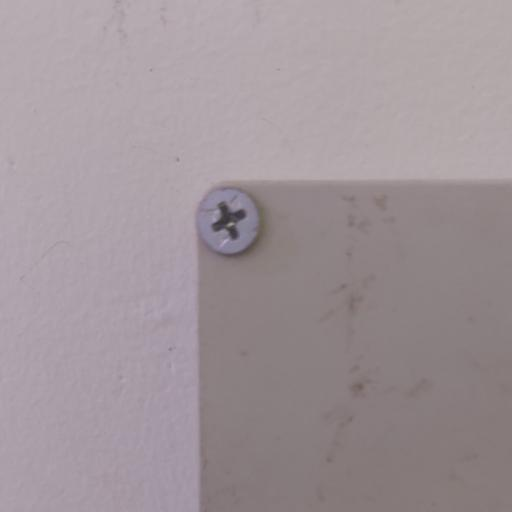Phillips: (199, 185, 264, 256)
